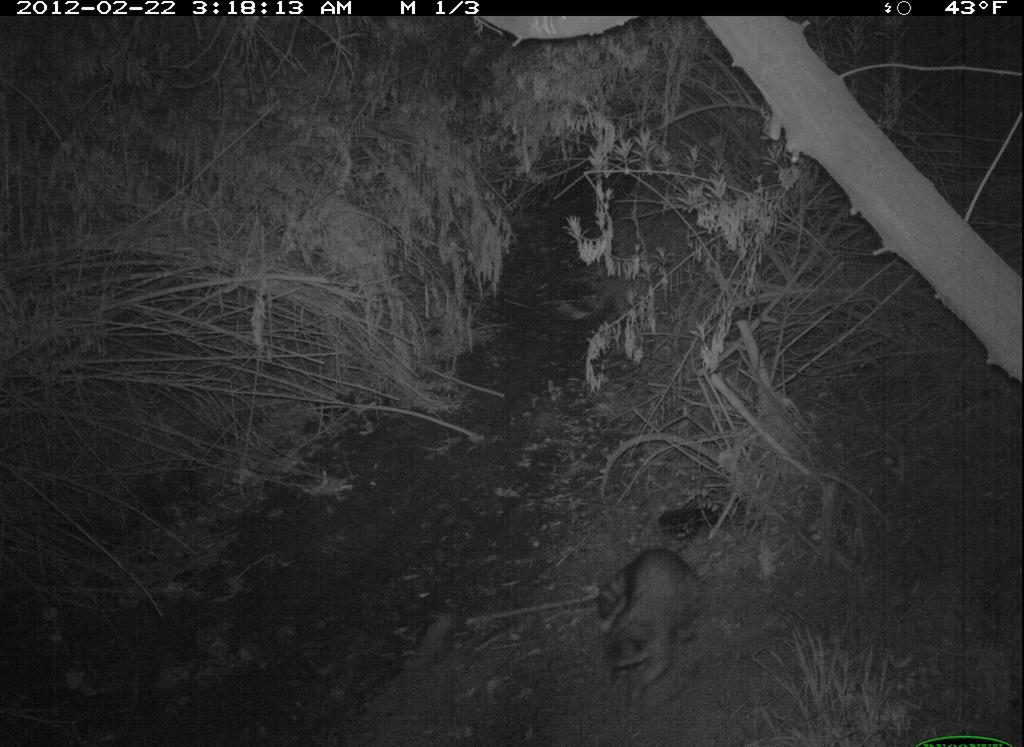raccoon: (585, 543, 715, 699)
